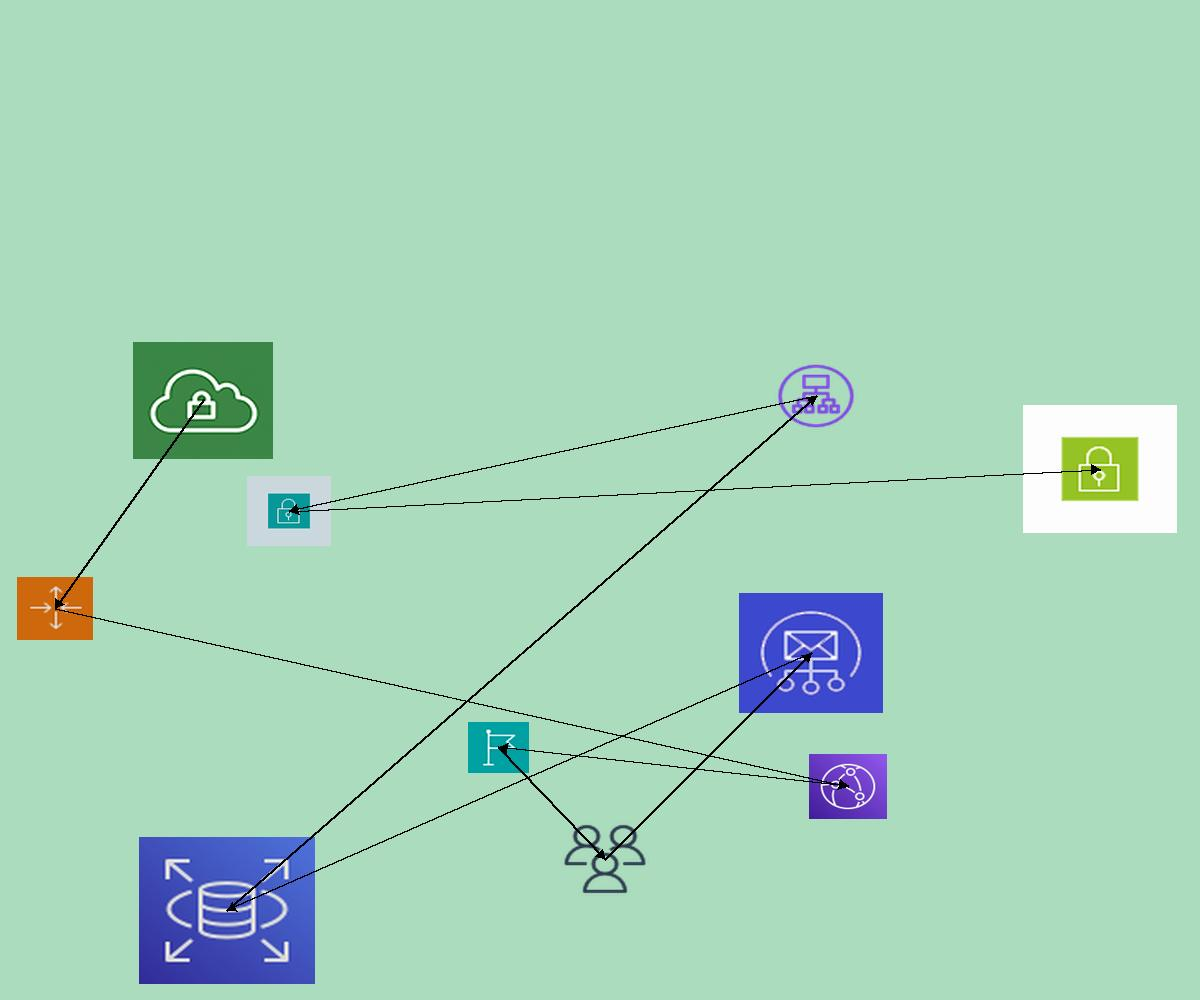AWS-CloudFront: (809, 754, 887, 819)
AWS-Private-subnet: (247, 476, 331, 546)
AWS-Private_vpc: (133, 342, 273, 459)
AWS-Public-subnet: (1023, 405, 1177, 533)
AWS-RDS: (139, 837, 315, 984)
AWS-Region: (468, 722, 529, 773)
AWS-Res_Elastic-Load-Balancing_Application-Load-Balancer: (775, 362, 857, 430)
AWS-Res_Users: (561, 822, 649, 896)
AWS-Scaling-group: (17, 577, 93, 640)
AWS-Simple-Email-Service: (739, 593, 883, 713)
